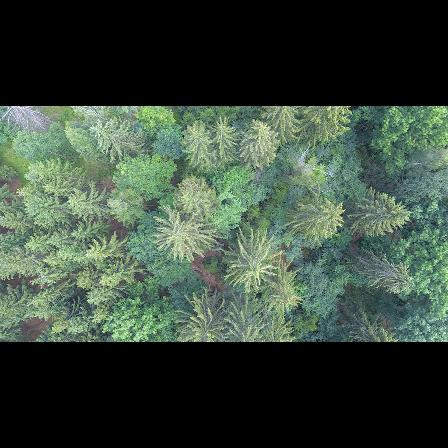Dead: (0, 106, 57, 136)
